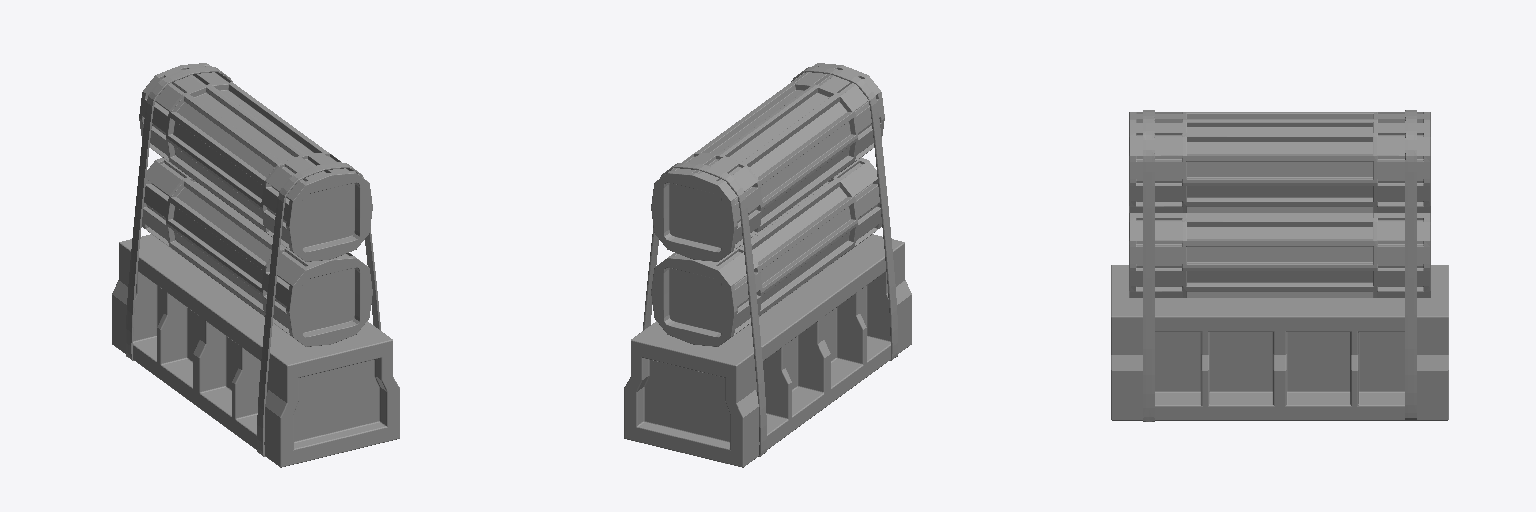
File: StorageCrate01HighPoly.obj
The picture shows the model from 3 angles: view 1: azimuth 30°, elevation 25°; view 2: azimuth 150°, elevation 25°; view 3: azimuth 270°, elevation 25°; orthographic projection.
Visible parts, largest first — view 1: BaseBoxHighPoly_Cube.000, TopContainer02_HighPoly_Cylinder.003, TopContainer01_HIghPoly_Cylinder.002, Straps_HighPoly_Cube.003; view 2: BaseBoxHighPoly_Cube.000, TopContainer02_HighPoly_Cylinder.003, TopContainer01_HIghPoly_Cylinder.002, Straps_HighPoly_Cube.003; view 3: BaseBoxHighPoly_Cube.000, TopContainer02_HighPoly_Cylinder.003, TopContainer01_HIghPoly_Cylinder.002, Straps_HighPoly_Cube.003.
Boxes of the visible parts, x1=… form: BaseBoxHighPoly_Cube.000: x1=112, y1=234, x2=399, y2=467; TopContainer02_HighPoly_Cylinder.003: x1=139, y1=63, x2=372, y2=261; TopContainer01_HIghPoly_Cylinder.002: x1=142, y1=157, x2=372, y2=346; Straps_HighPoly_Cube.003: x1=126, y1=66, x2=380, y2=456; BaseBoxHighPoly_Cube.000: x1=624, y1=234, x2=911, y2=467; TopContainer02_HighPoly_Cylinder.003: x1=651, y1=63, x2=884, y2=261; TopContainer01_HIghPoly_Cylinder.002: x1=651, y1=157, x2=881, y2=346; Straps_HighPoly_Cube.003: x1=643, y1=66, x2=897, y2=456; BaseBoxHighPoly_Cube.000: x1=1111, y1=265, x2=1448, y2=420; TopContainer02_HighPoly_Cylinder.003: x1=1129, y1=112, x2=1430, y2=212; TopContainer01_HIghPoly_Cylinder.002: x1=1129, y1=213, x2=1430, y2=297; Straps_HighPoly_Cube.003: x1=1143, y1=110, x2=1416, y2=421.
Size of the model in its own units: 2.57 by 5.43 by 6.07.